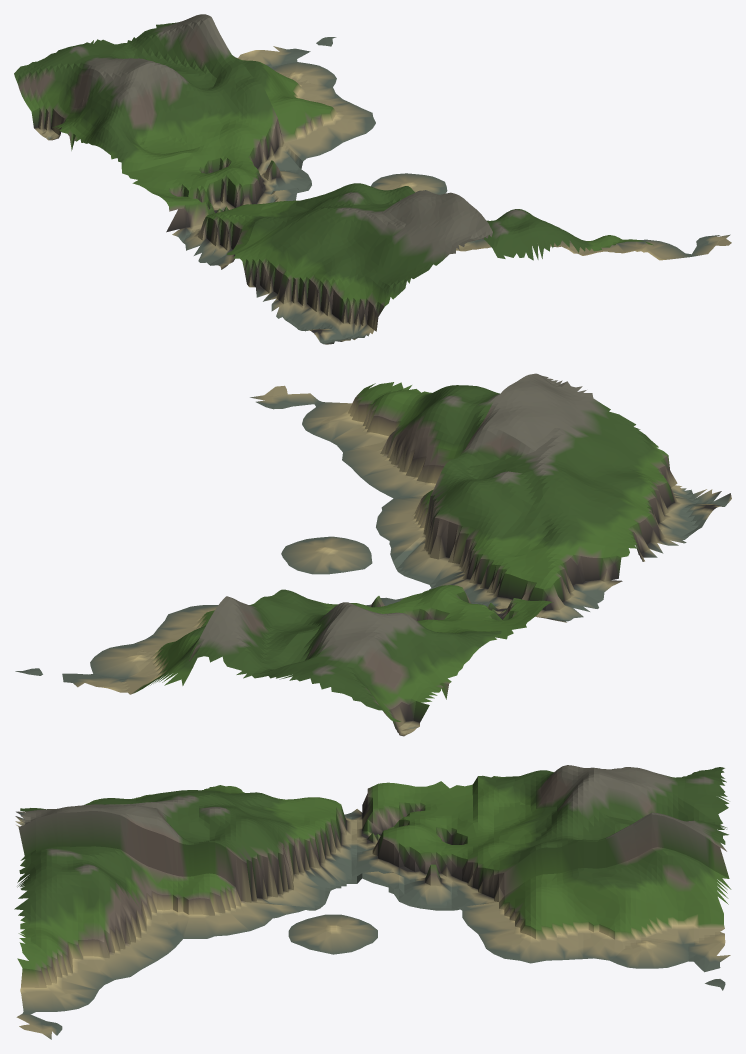
The model's file is coast_tile_x1z1_lod1.glb.
3 views of the same model, one above another, from view 1: azimuth 30°, elevation 25°; view 2: azimuth 150°, elevation 25°; view 3: azimuth 270°, elevation 25° (orthographic). The views are drawn at different scales.
Visible parts, largest first — view 1: geometry_0; view 2: geometry_0; view 3: geometry_0.
Boxes of the visible parts, left/top/right/bottom form: geometry_0: left=14, top=14, right=731, bottom=344; geometry_0: left=15, top=373, right=731, bottom=736; geometry_0: left=14, top=765, right=731, bottom=1039.
Bounding box in the file's own units: 622 × 126 × 819.
